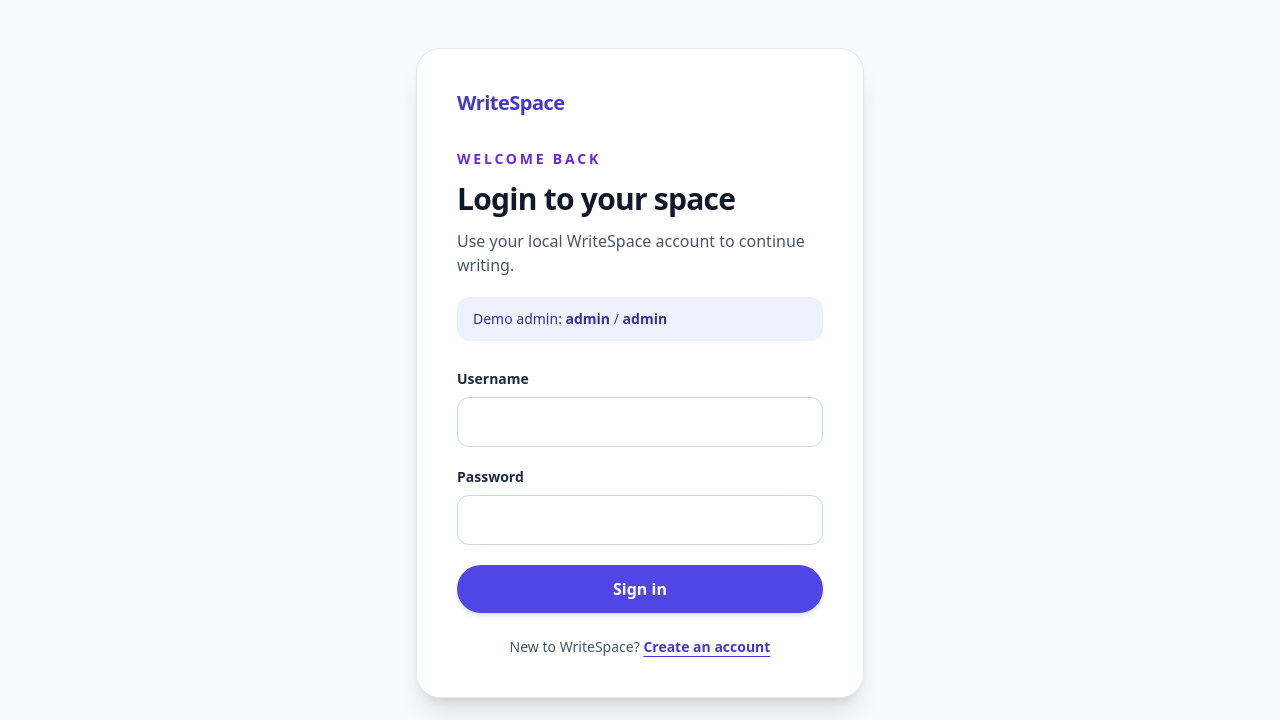
Scenario: LoginPage › signs in the seeded administrator and persists the required session
Type "admin" into the field labelled "Username". click: (640, 422)
box: [457,397,823,447]
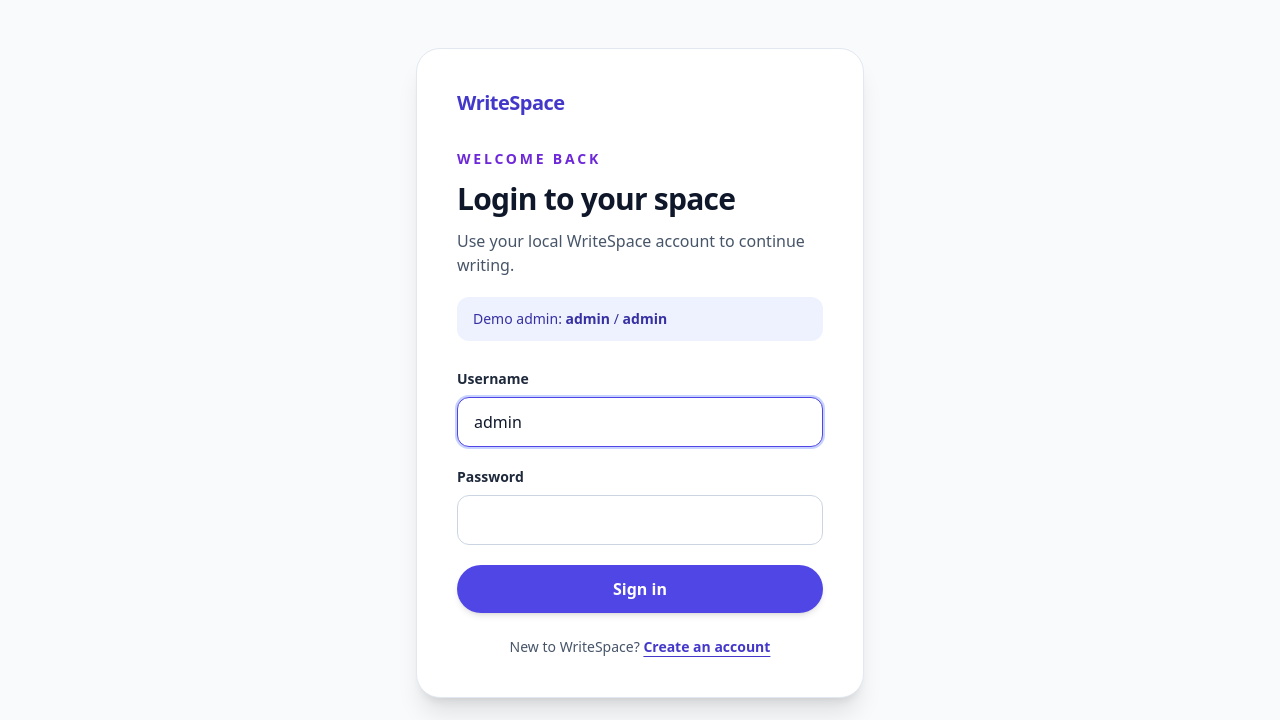
Type "admin" into the password field labelled "Password". click: (640, 520)
box: [457,495,823,545]
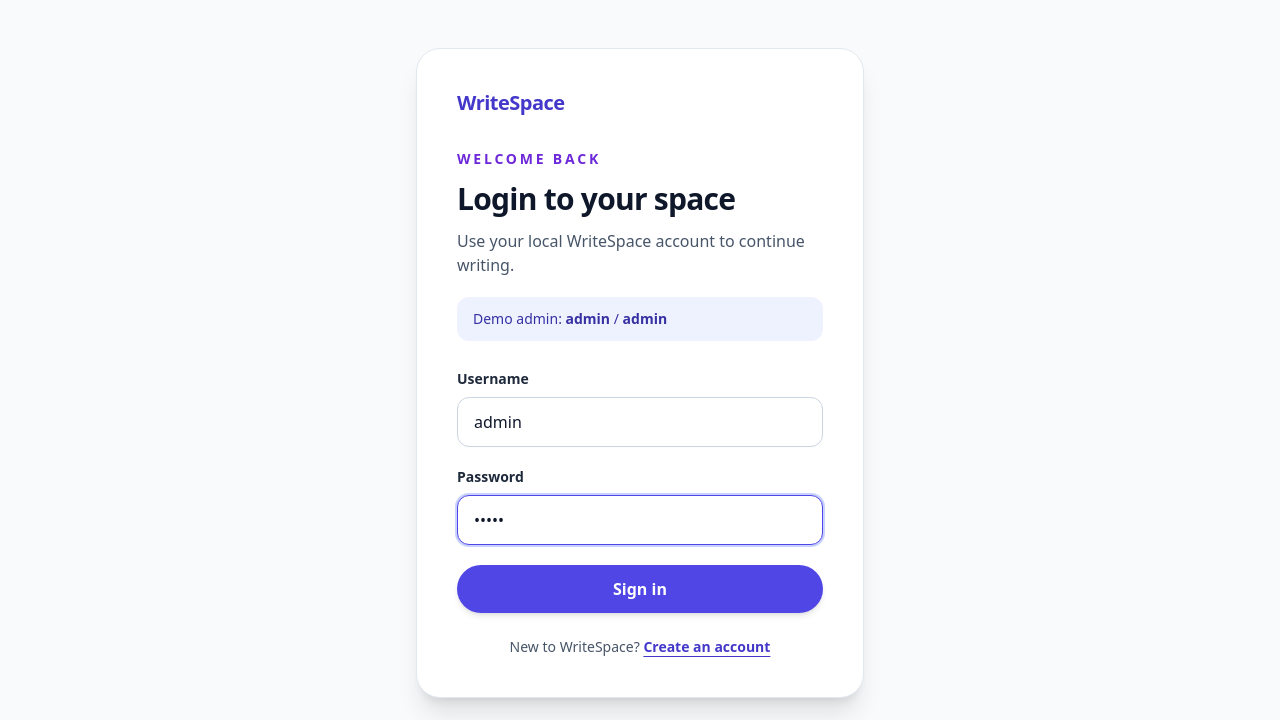
Click the button "Sign in". click: (640, 589)
box: [457,565,823,613]
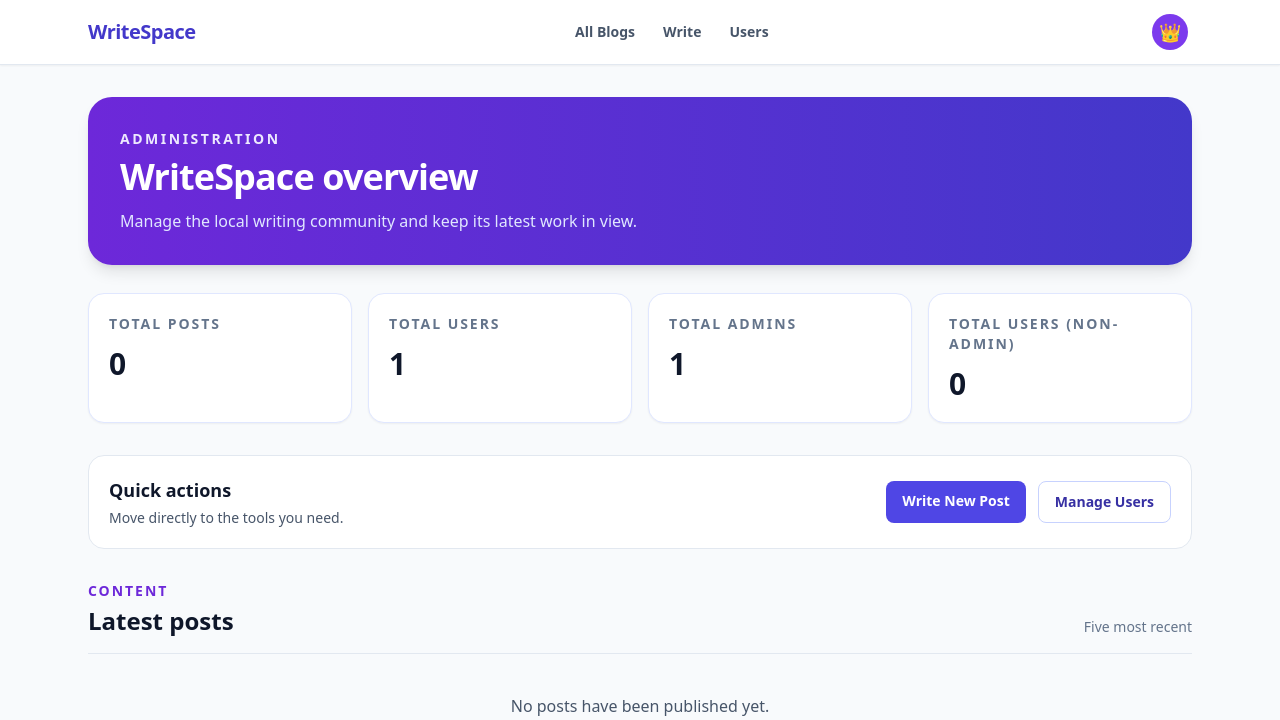
expect the heading "WriteSpace overview" is shown: met, box [120,152,478,201]
